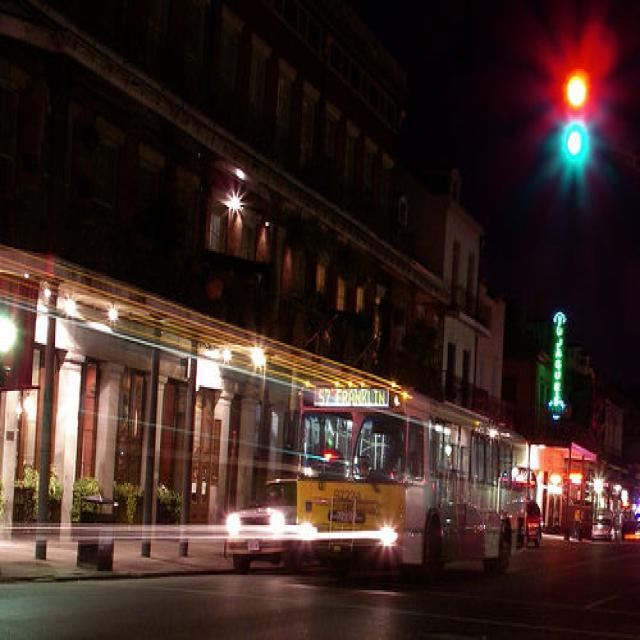Bus: (299, 359, 535, 597)
car: (212, 462, 325, 576), (520, 488, 565, 562), (588, 490, 627, 564)
